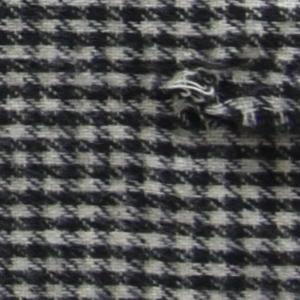Damage: (153, 37, 300, 144)
